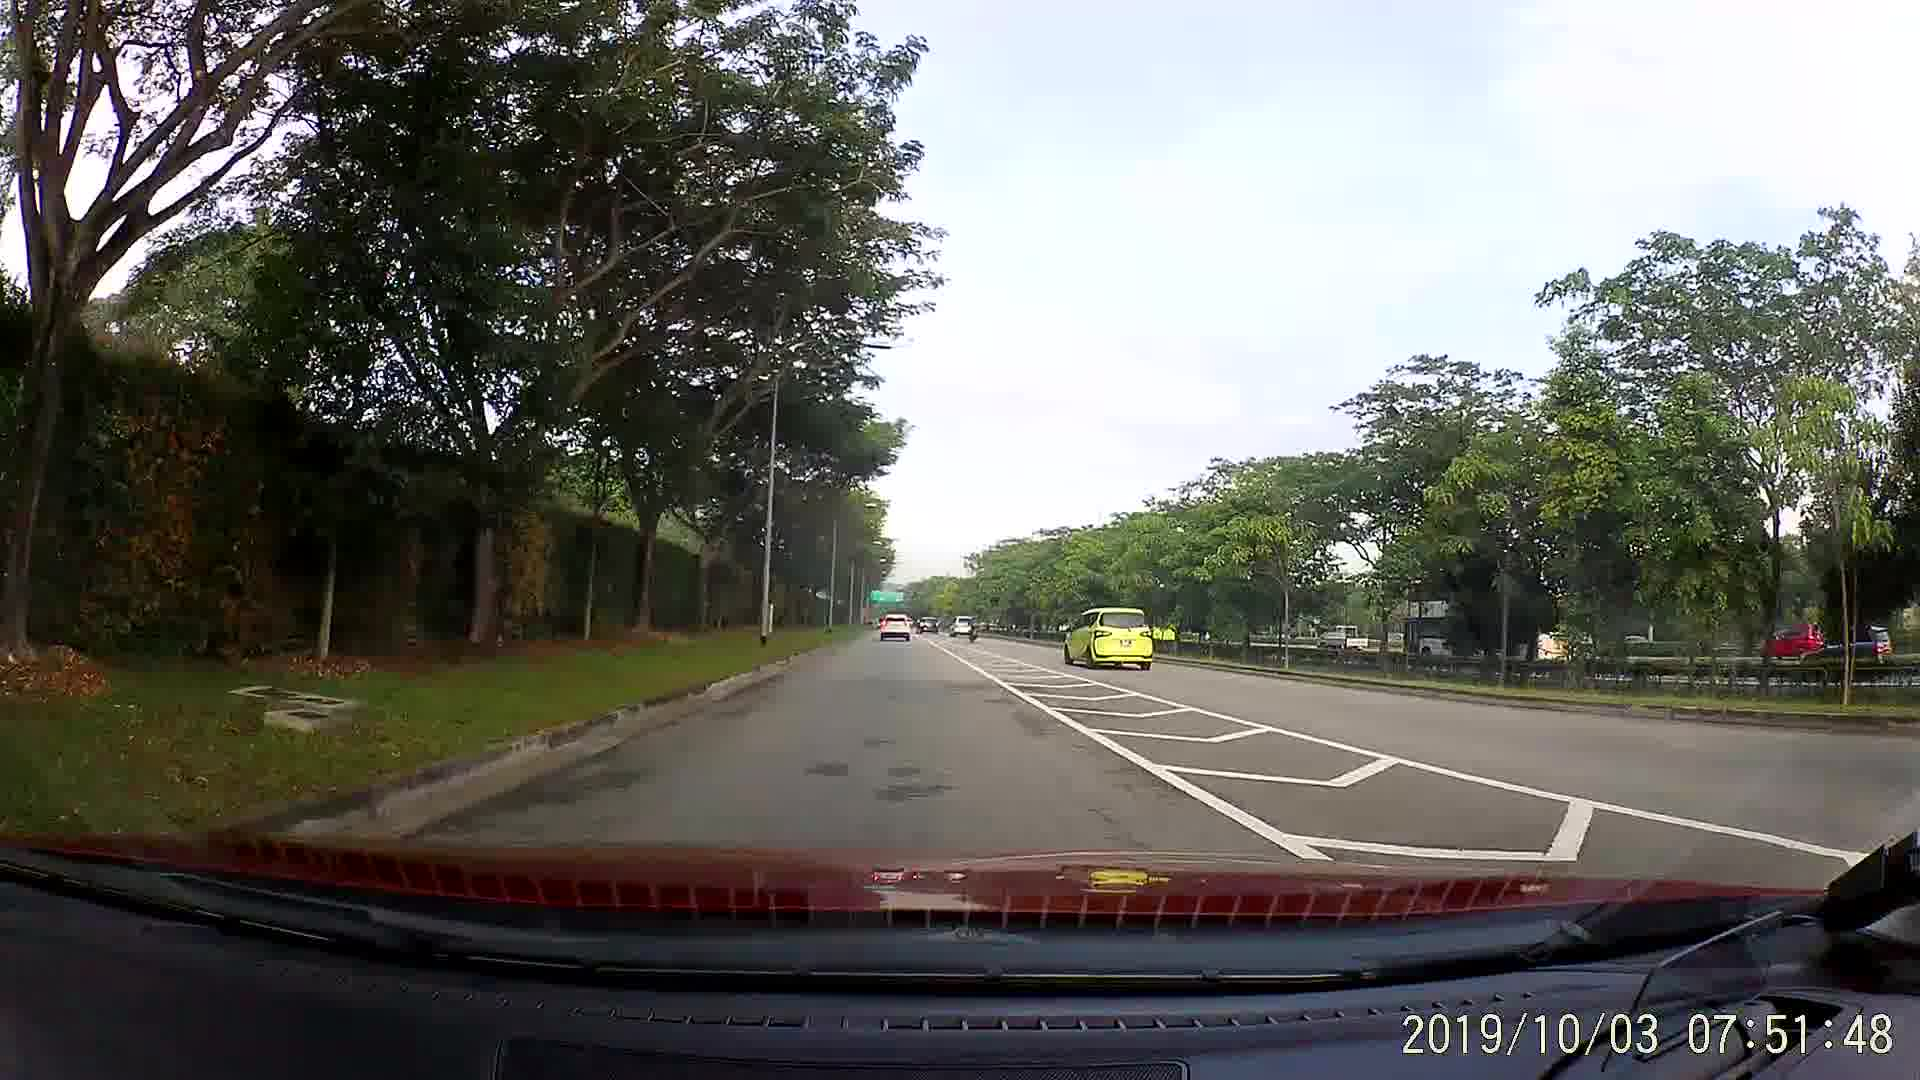car: (1058, 607, 1153, 674), (876, 611, 914, 645), (945, 612, 977, 634), (919, 615, 942, 636)
